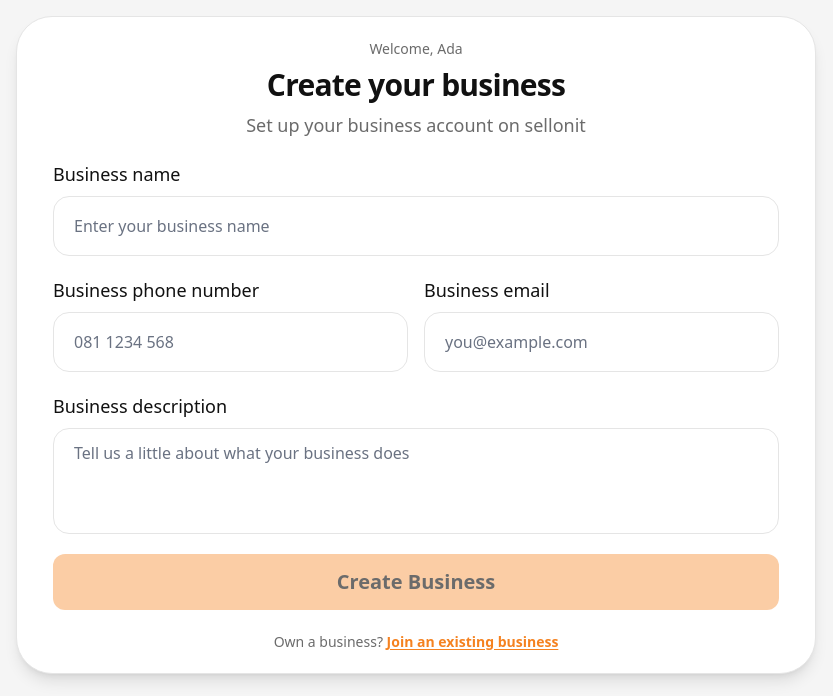
Test: Create Business screen › shows Nigerian phone and email errors on blur, not on each keystroke
In the field labelled "Business phone number": (230,342) [74,313,387,371], type "12345"
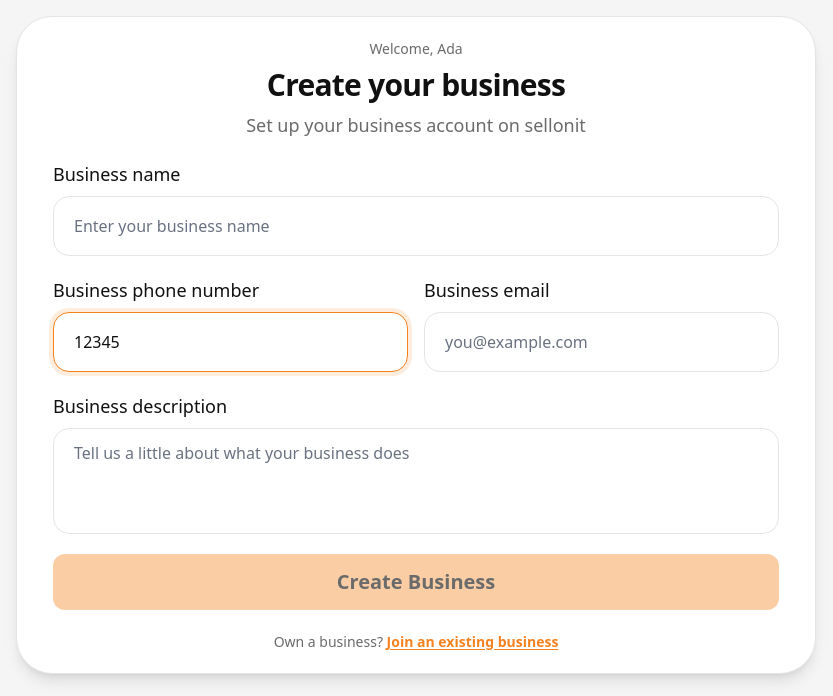
Check: the text "Invalid phone number" is not shown
Press Tab
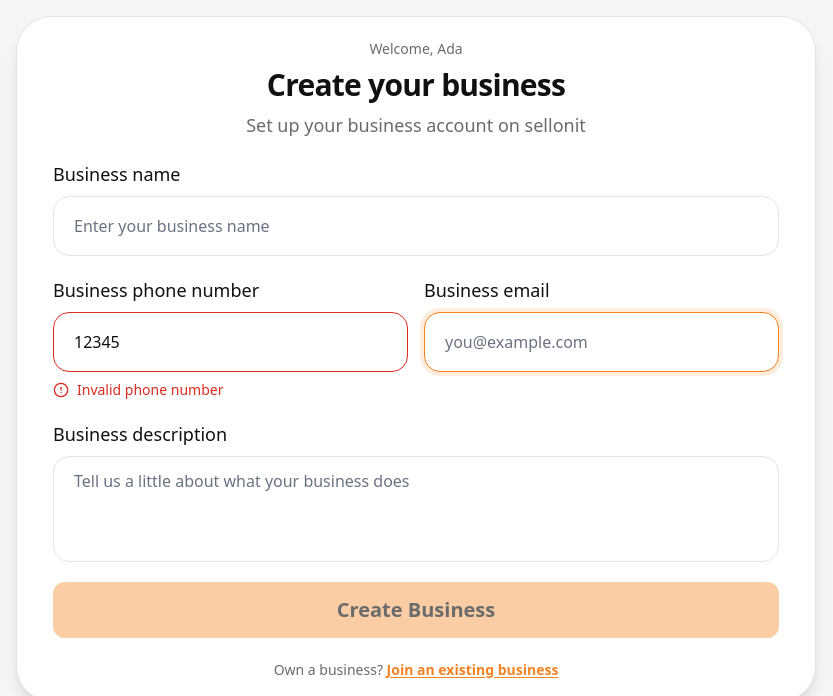
Check: the text "Invalid phone number" is shown, box [77,380,224,400]
In the field labelled "Business email": (602,342) [445,313,758,371], type "not-an-email"
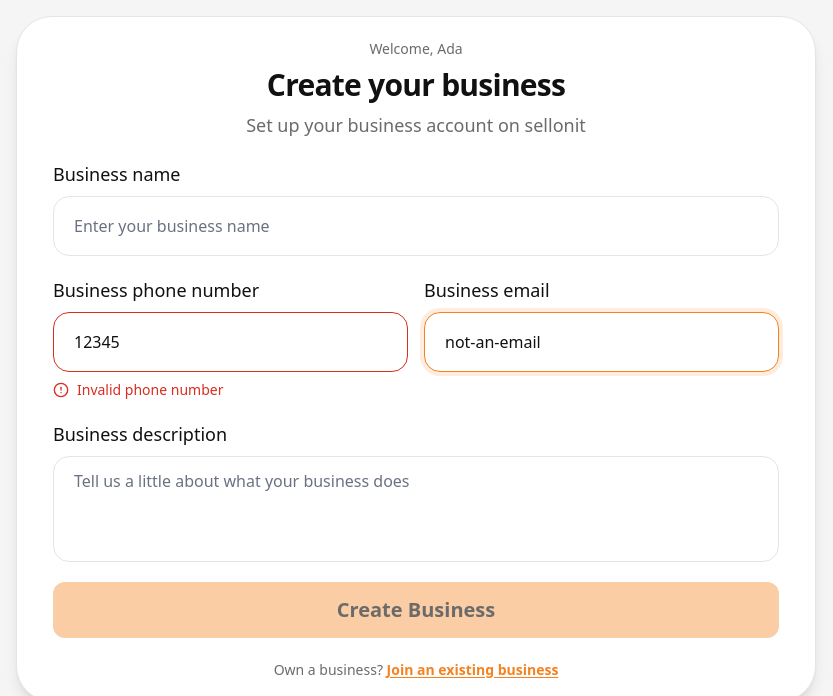
Check: the text "Invalid email" is not shown
Press Tab
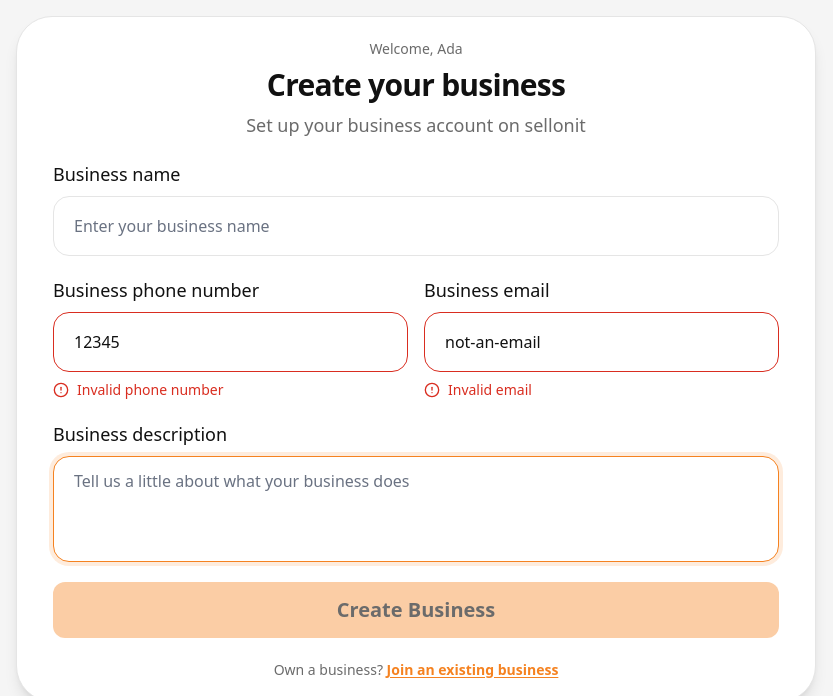
Check: the text "Invalid email" is shown, box [448,380,532,400]
